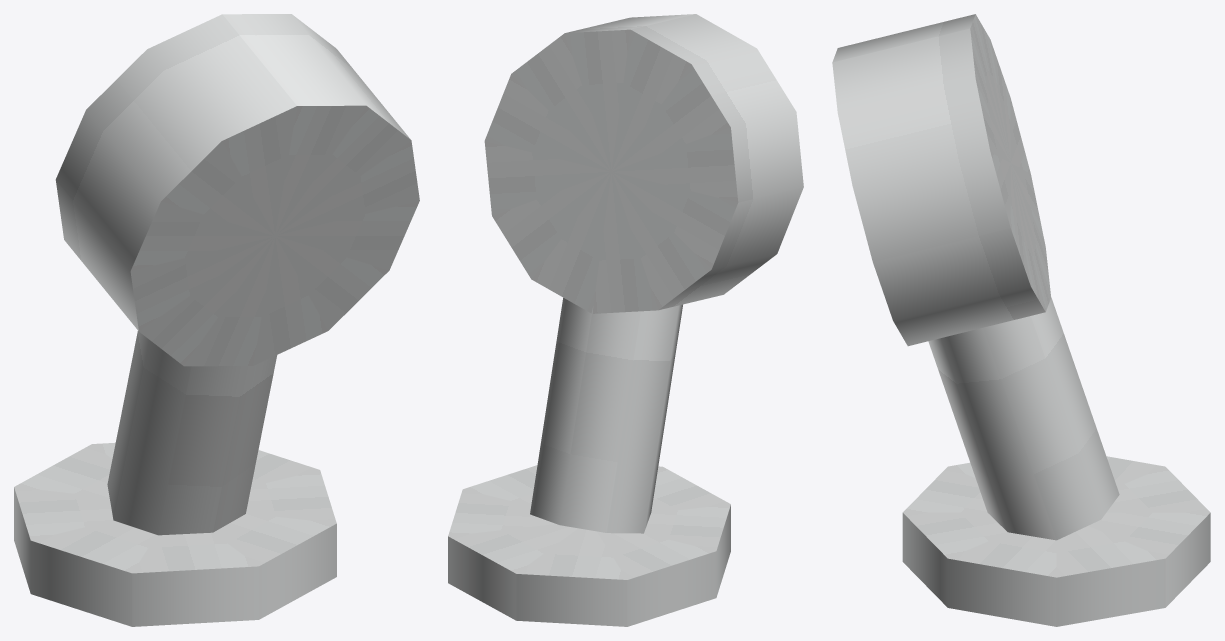
The model's file is trusssignalarm_stub_107.obj.
3 views of the same model, side by side, from view 1: azimuth 30°, elevation 25°; view 2: azimuth 150°, elevation 25°; view 3: azimuth 270°, elevation 25° (orthographic). The views are drawn at different scales.
Parts seen in each view (by area): view 1: trusssignalarm_stub_107; view 2: trusssignalarm_stub_107; view 3: trusssignalarm_stub_107.
Part boxes in pixels (x1,y1,x2,y2): trusssignalarm_stub_107: (14,14,419,626); trusssignalarm_stub_107: (448,14,803,626); trusssignalarm_stub_107: (832,14,1210,626).
Size of the model in its own units: 0.35 by 0.669 by 0.43.
